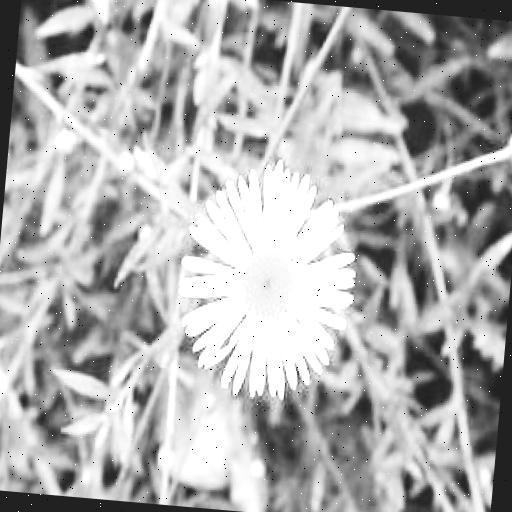daisy: (184, 176, 354, 385)
